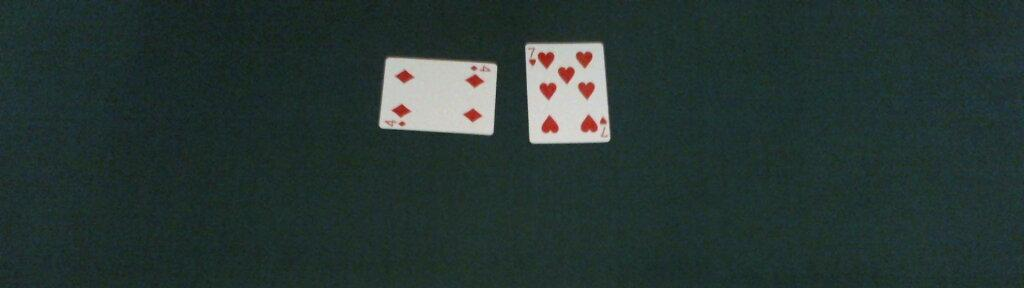four: (379, 56, 499, 136)
seven: (525, 43, 613, 143)
